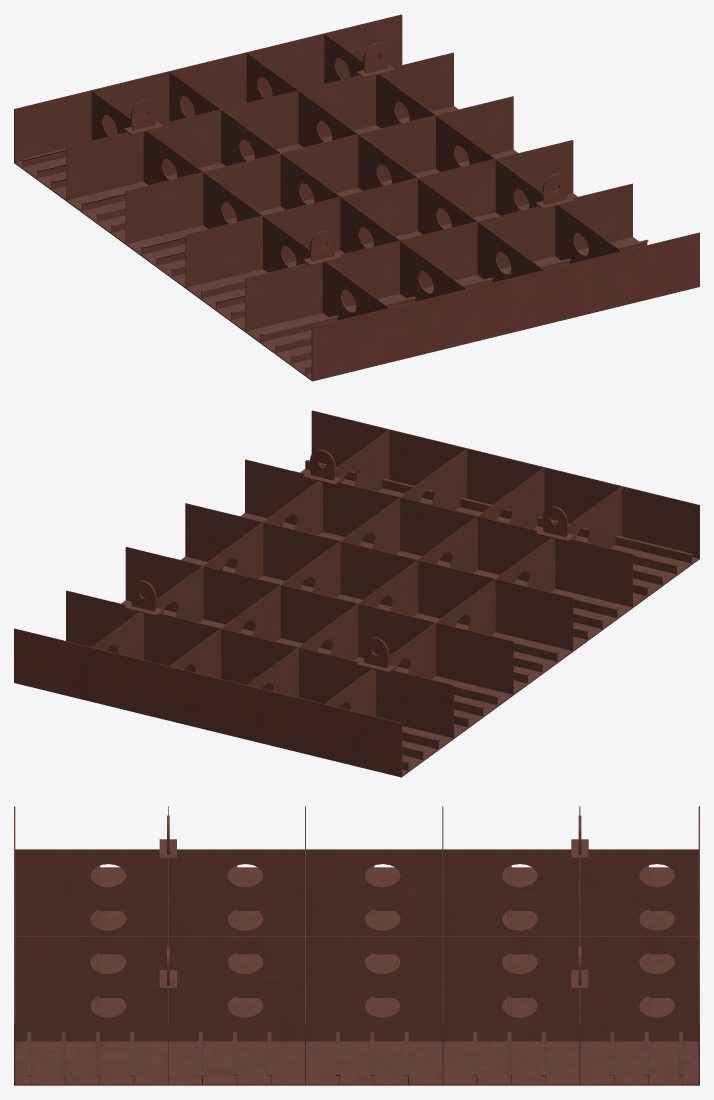
Rendered from ShipBlockFlat.fbx.
The picture shows the model from 3 angles, top to bottom: view 1: azimuth 30°, elevation 25°; view 2: azimuth 150°, elevation 25°; view 3: azimuth 270°, elevation 25°; orthographic projection. The views are drawn at different scales.
Visible parts, largest first — view 1: ShipBlockFlat_LOD0; view 2: ShipBlockFlat_LOD0; view 3: ShipBlockFlat_LOD0.
Part boxes in pixels (x1=…): ShipBlockFlat_LOD0: x1=14, y1=14, x2=699, y2=381; ShipBlockFlat_LOD0: x1=14, y1=410, x2=699, y2=777; ShipBlockFlat_LOD0: x1=14, y1=806, x2=699, y2=1085.
Size of what is drawn, in the model's own units: 12 by 2.44 by 16.
1 material, 1 textured.
